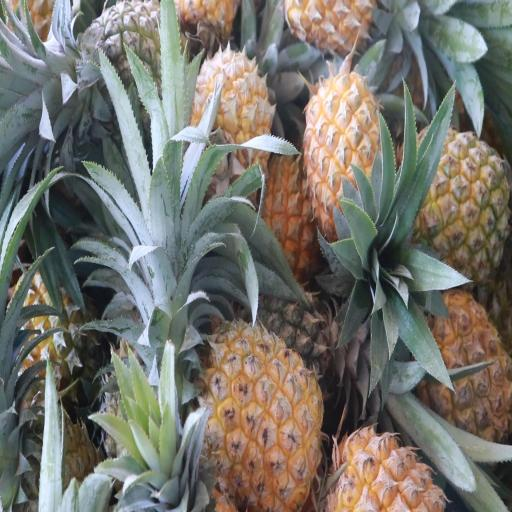Pineapple - v8 v1: (209, 318, 321, 512), (419, 286, 511, 441), (305, 75, 388, 241), (418, 132, 508, 282), (328, 423, 446, 512), (194, 53, 271, 185)
